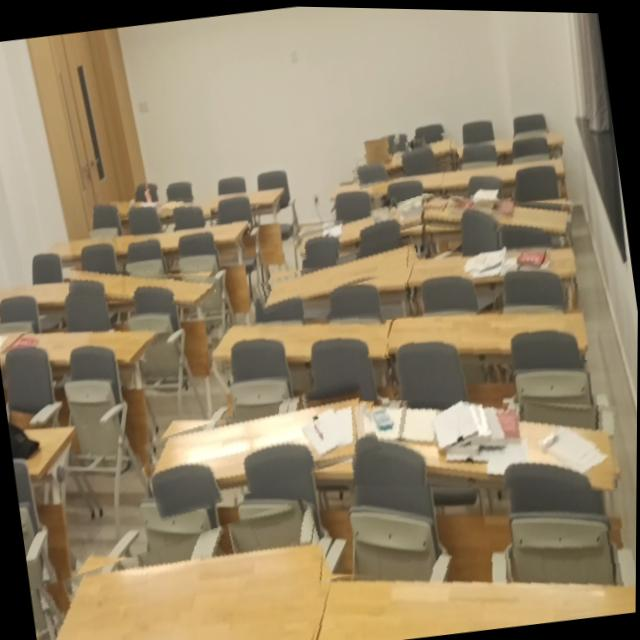Non-empty: (355, 399, 617, 488), (155, 393, 364, 493), (301, 193, 426, 256), (405, 244, 580, 282), (421, 192, 573, 234), (2, 330, 158, 360), (356, 131, 453, 174), (94, 195, 211, 217)
empty: (55, 543, 322, 640), (322, 573, 637, 640), (264, 239, 413, 310), (390, 309, 588, 357), (214, 320, 394, 359), (70, 269, 216, 306), (138, 223, 248, 259)
